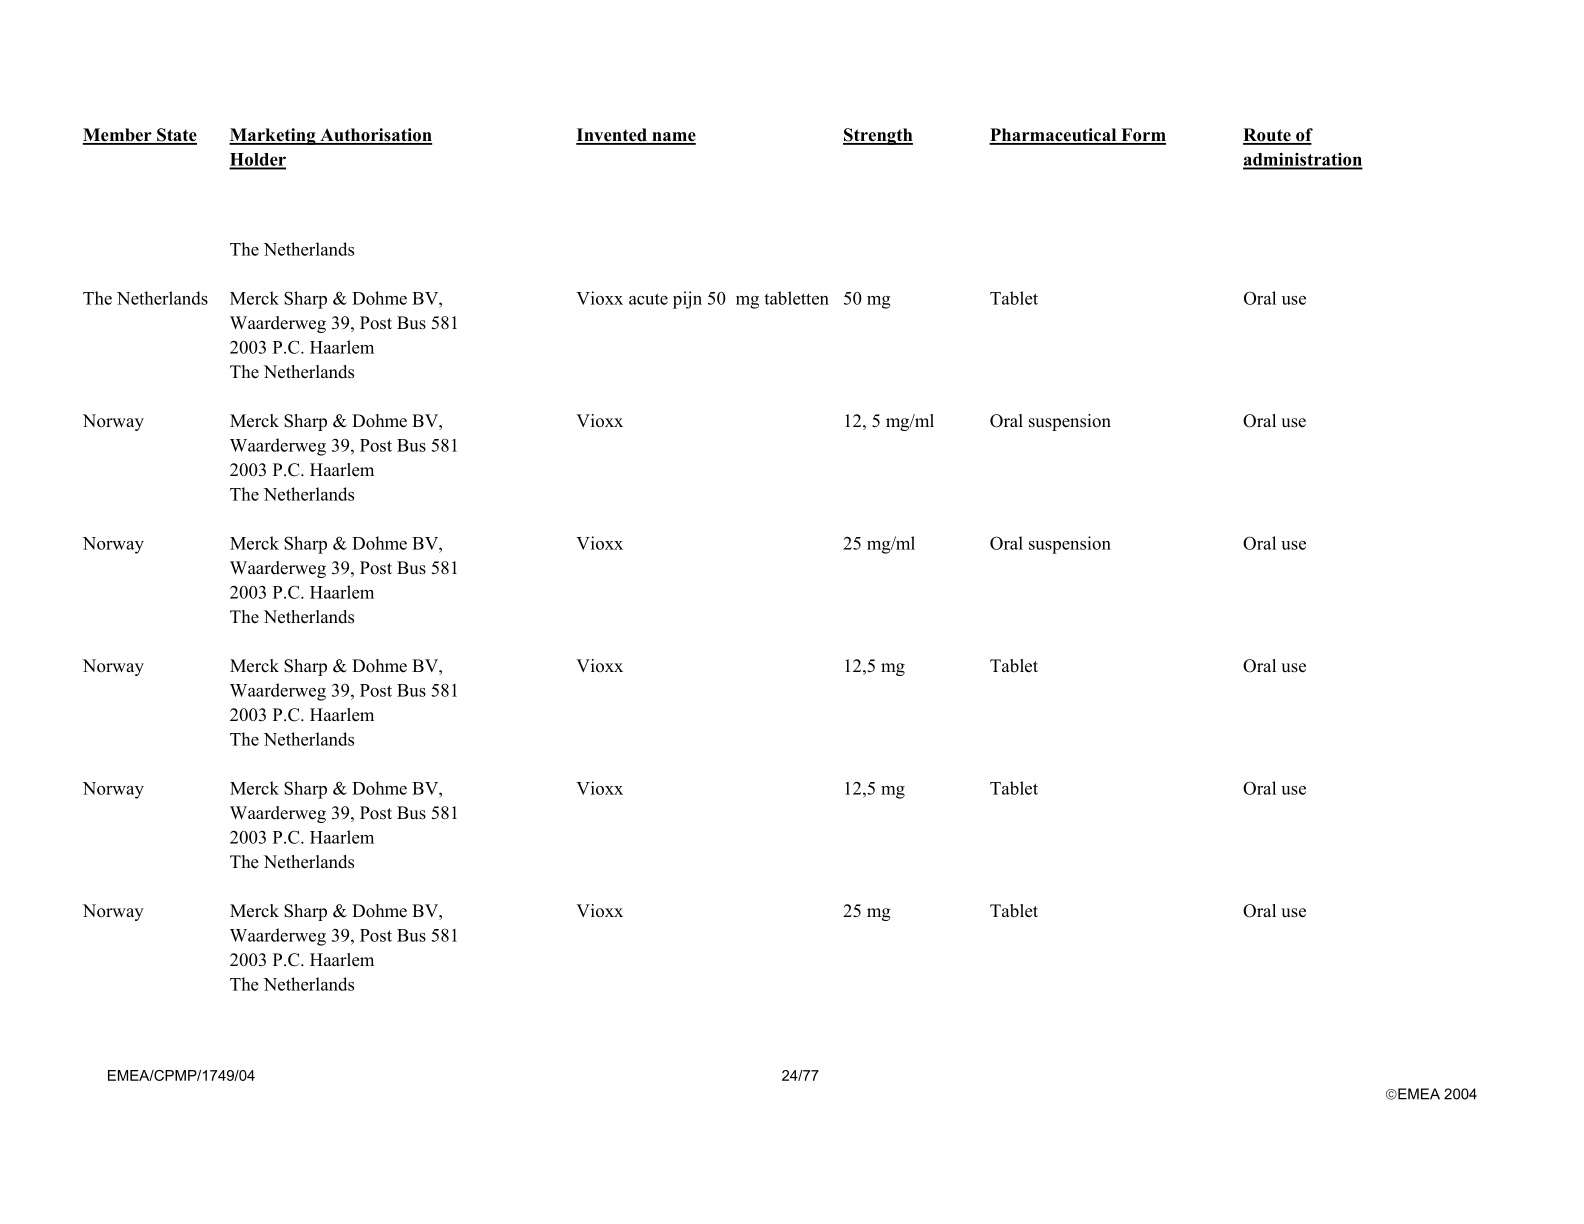nolines: (81, 126, 1363, 996)
